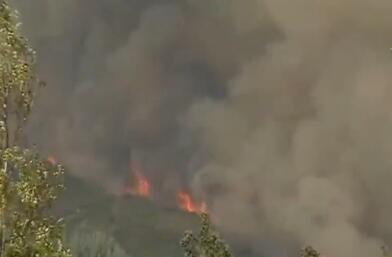fire: (117, 166, 150, 200), (172, 190, 205, 218)
yanwu: (62, 0, 392, 252)
